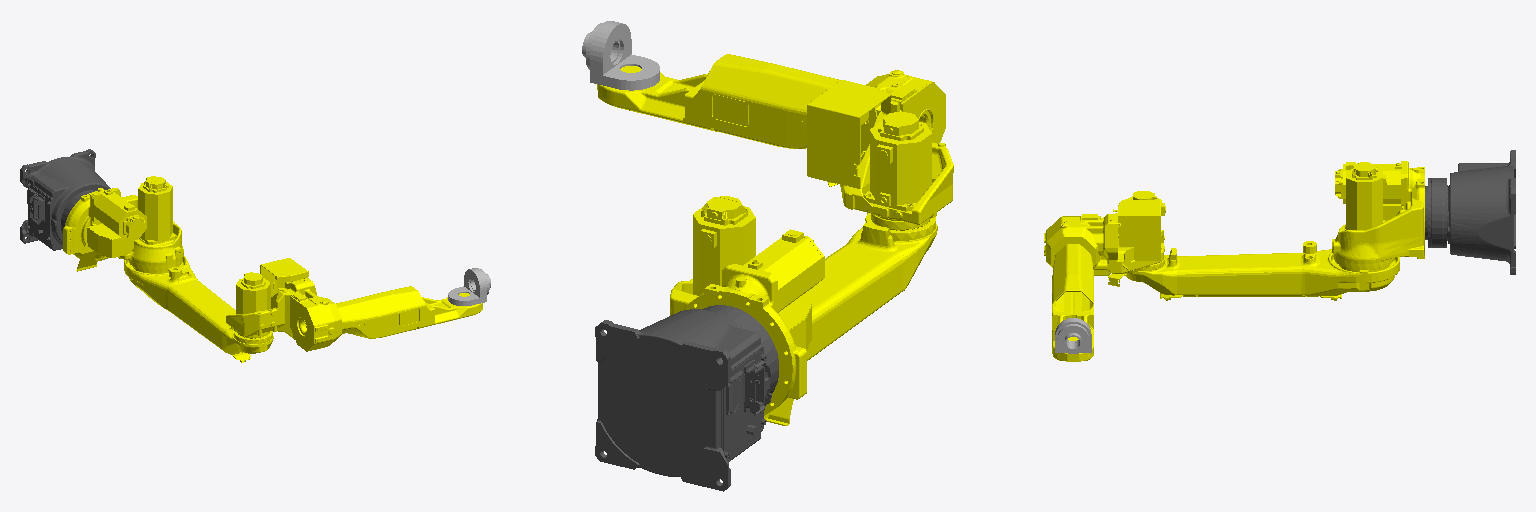
robot.urdf — my_robot_description:
<?xml version="1.0" encoding="utf-8"?>
<!-- This URDF was automatically created by SolidWorks to URDF Exporter! Originally created by [author] ([email redacted]) 
     Commit Version: 1.5.1-0-g916b5db  Build Version: 1.5.7152.31018
     For more information, please see http://wiki.ros.org/sw_urdf_exporter -->
<robot
  name="my_robot_description">
  <link
    name="base_link">
    <inertial>
      <origin
        xyz="-0.0126022026406354 0.000207464000061845 0.148312857980725"
        rpy="0 0 0" />
      <mass
        value="23.6977592058706" />
      <inertia
        ixx="0.330068238702755"
        ixy="0.000570545544486689"
        ixz="0.00315757561410969"
        iyy="0.337174579427767"
        iyz="0.000284200763409556"
        izz="0.307530830169948" />
    </inertial>
    <visual>
      <origin
        xyz="0 0 0"
        rpy="0 0 0" />
      <geometry>
        <mesh
          filename="package://my_robot_description/meshes/base_link.STL" />
      </geometry>
      <material
        name="">
        <color
          rgba="0.4 0.4 0.4 1" />
      </material>
    </visual>
    <collision>
      <origin
        xyz="0 0 0"
        rpy="0 0 0" />
      <geometry>
        <mesh
          filename="package://my_robot_description/meshes/base_link.STL" />
      </geometry>
    </collision>
  </link>
  <link
    name="link1">
    <inertial>
      <origin
        xyz="0.0703224076533174 0.0253451607183423 0.152457861802122"
        rpy="0 0 0" />
      <mass
        value="18.7854045572151" />
      <inertia
        ixx="0.302121131667017"
        ixy="0.0207433494826265"
        ixz="-0.0660476898045915"
        iyy="0.312832259841531"
        iyz="-0.0175317871993816"
        izz="0.316118404649268" />
    </inertial>
    <visual>
      <origin
        xyz="0 0 0"
        rpy="0 0 0" />
      <geometry>
        <mesh
          filename="package://my_robot_description/meshes/link1.STL" />
      </geometry>
      <material
        name="">
        <color
          rgba="1 1 0 1" />
      </material>
    </visual>
    <collision>
      <origin
        xyz="0 0 0"
        rpy="0 0 0" />
      <geometry>
        <mesh
          filename="package://my_robot_description/meshes/link1.STL" />
      </geometry>
    </collision>
  </link>
  <joint
    name="joint1"
    type="continuous">
    <origin
      xyz="-0.015 -0.33069 0"
      rpy="1.5708 0 0" />
    <parent
      link="base_link" />
    <child
      link="link1" />
    <axis
      xyz="0 0 1" />
    <limit
      lower="-3.14"
      upper="3.14"
      effort="0"
      velocity="0" />
  </joint>
  <link
    name="link2">
    <inertial>
      <origin
        xyz="-4.66571569340546E-05 -0.16471686280662 0.411840075538818"
        rpy="0 0 0" />
      <mass
        value="14.0790920818841" />
      <inertia
        ixx="0.886661245880346"
        ixy="7.14844926162096E-05"
        ixz="-8.42444710943717E-05"
        iyy="0.902755559262587"
        iyz="-0.0104284784365054"
        izz="0.0482232016050229" />
    </inertial>
    <visual>
      <origin
        xyz="0 0 0"
        rpy="0 0 0" />
      <geometry>
        <mesh
          filename="package://my_robot_description/meshes/link2.STL" />
      </geometry>
      <material
        name="">
        <color
          rgba="1 1 0 1" />
      </material>
    </visual>
    <collision>
      <origin
        xyz="0 0 0"
        rpy="0 0 0" />
      <geometry>
        <mesh
          filename="package://my_robot_description/meshes/link2.STL" />
      </geometry>
    </collision>
  </link>
  <joint
    name="joint2"
    type="continuous">
    <origin
      xyz="0.15 0 0.21745"
      rpy="0 0 0" />
    <parent
      link="link1" />
    <child
      link="link2" />
    <axis
      xyz="0 1 0" />
    <limit
      lower="-3.14"
      upper="3.14"
      effort="0"
      velocity="0" />
  </joint>
  <link
    name="link3">
    <inertial>
      <origin
        xyz="0.0943772050360831 0.00831993890865878 0.116811589774964"
        rpy="0 0 0" />
      <mass
        value="11.2852184423439" />
      <inertia
        ixx="0.185908674646294"
        ixy="-0.00260846713642638"
        ixz="-0.0635588295745308"
        iyy="0.223185444091577"
        iyz="0.00728563489713178"
        izz="0.112880183215889" />
    </inertial>
    <visual>
      <origin
        xyz="0 0 0"
        rpy="0 0 0" />
      <geometry>
        <mesh
          filename="package://my_robot_description/meshes/link3.STL" />
      </geometry>
      <material
        name="">
        <color
          rgba="1 1 0 1" />
      </material>
    </visual>
    <collision>
      <origin
        xyz="0 0 0"
        rpy="0 0 0" />
      <geometry>
        <mesh
          filename="package://my_robot_description/meshes/link3.STL" />
      </geometry>
    </collision>
  </link>
  <joint
    name="joint3"
    type="continuous">
    <origin
      xyz="0 0 0.79"
      rpy="0 0 0" />
    <parent
      link="link2" />
    <child
      link="link3" />
    <axis
      xyz="0 1 0" />
    <limit
      lower="-3.14"
      upper="3.14"
      effort="0"
      velocity="0" />
  </joint>
  <link
    name="link4">
    <inertial>
      <origin
        xyz="0.30205027669831 -0.056496339086546 -3.5828372662694E-05"
        rpy="0 0 0" />
      <mass
        value="7.79297137146979" />
      <inertia
        ixx="0.0249309277234898"
        ixy="0.0283945238509783"
        ixz="5.90362297864023E-05"
        iyy="0.259730426200264"
        iyz="-1.29723833309108E-05"
        izz="0.258900627940369" />
    </inertial>
    <visual>
      <origin
        xyz="0 0 0"
        rpy="0 0 0" />
      <geometry>
        <mesh
          filename="package://my_robot_description/meshes/link4.STL" />
      </geometry>
      <material
        name="">
        <color
          rgba="1 1 0 1" />
      </material>
    </visual>
    <collision>
      <origin
        xyz="0 0 0"
        rpy="0 0 0" />
      <geometry>
        <mesh
          filename="package://my_robot_description/meshes/link4.STL" />
      </geometry>
    </collision>
  </link>
  <joint
    name="joint4"
    type="continuous">
    <origin
      xyz="0.22809 0 0.25"
      rpy="0 0 0" />
    <parent
      link="link3" />
    <child
      link="link4" />
    <axis
      xyz="1 0 0" />
    <limit
      lower="-3.14"
      upper="3.14"
      effort="0"
      velocity="0" />
  </joint>
  <link
    name="link5">
    <inertial>
      <origin
        xyz="0.0286302873650151 -0.0178958882488403 -4.17443857259059E-14"
        rpy="0 0 0" />
      <mass
        value="0.598831893321024" />
      <inertia
        ixx="0.00160859630833623"
        ixy="-0.000377298390181619"
        ixz="4.62767450778639E-21"
        iyy="0.00167199859570175"
        iyz="-5.23748569666063E-20"
        izz="0.00152131174470428" />
    </inertial>
    <visual>
      <origin
        xyz="0 0 0"
        rpy="0 0 0" />
      <geometry>
        <mesh
          filename="package://my_robot_description/meshes/link5.STL" />
      </geometry>
      <material
        name="">
        <color
          rgba="0.752941176470588 0.752941176470588 0.752941176470588 1" />
      </material>
    </visual>
    <collision>
      <origin
        xyz="0 0 0"
        rpy="0 0 0" />
      <geometry>
        <mesh
          filename="package://my_robot_description/meshes/link5.STL" />
      </geometry>
    </collision>
  </link>
  <joint
    name="joint5"
    type="continuous">
    <origin
      xyz="0.61291 0 0"
      rpy="0 0 0" />
    <parent
      link="link4" />
    <child
      link="link5" />
    <axis
      xyz="0 1 0" />
  </joint>
  <link
    name="link6">
    <inertial>
      <origin
        xyz="0.032 -1.04825870206326E-13 2.22044604925031E-16"
        rpy="0 0 0" />
      <mass
        value="0.17051308286624" />
      <inertia
        ixx="0.000277916848768315"
        ixy="-8.03560591382423E-37"
        ixz="8.71654937058881E-37"
        iyy="0.000160289486643655"
        iyz="-3.17102649563598E-37"
        izz="0.000160289486643655" />
    </inertial>
    <visual>
      <origin
        xyz="0 0 0"
        rpy="0 0 0" />
      <geometry>
        <mesh
          filename="package://my_robot_description/meshes/link6.STL" />
      </geometry>
      <material
        name="">
        <color
          rgba="0.752941176470588 0.752941176470588 0.752941176470588 1" />
      </material>
    </visual>
    <collision>
      <origin
        xyz="0 0 0"
        rpy="0 0 0" />
      <geometry>
        <mesh
          filename="package://my_robot_description/meshes/link6.STL" />
      </geometry>
    </collision>
  </link>
  <joint
    name="joint6"
    type="continuous">
    <origin
      xyz="0.0455 0.0005 0"
      rpy="0 0 0" />
    <parent
      link="link5" />
    <child
      link="link6" />
    <axis
      xyz="1 0 0" />
  </joint>
</robot>

--- What the picture shows (computed from the rendered views, not written in the file) ---
Views: 3 orthographic renders of the robot side by side, from view 1: azimuth 30°, elevation 25°; view 2: azimuth 150°, elevation 25°; view 3: azimuth 270°, elevation 25°.
Robot: my_robot_description — 7 links, 6 joints (6 continuous); root link base_link; default pose: every joint at zero.
Links seen in each view (by area): view 1: link1, link3, link2, base_link, link4, link5; view 2: base_link, link3, link1, link4, link2, link5; view 3: link2, link1, base_link, link3, link4, link6.
Boxes of the visible links, <box> form: link1: <box>63,176,183,273</box>; link3: <box>226,258,341,351</box>; link2: <box>124,256,273,362</box>; base_link: <box>20,149,110,250</box>; link4: <box>336,286,482,338</box>; link5: <box>448,268,486,305</box>; base_link: <box>595,305,778,491</box>; link3: <box>807,70,953,224</box>; link1: <box>670,196,824,425</box>; link4: <box>597,54,839,148</box>; link2: <box>796,213,937,360</box>; link5: <box>590,21,659,90</box>; link2: <box>1125,241,1399,300</box>; link1: <box>1332,161,1424,271</box>; base_link: <box>1425,150,1515,274</box>; link3: <box>1044,191,1165,286</box>; link4: <box>1052,244,1093,361</box>; link6: <box>1057,324,1088,353</box>.
Bounding box of the posed robot: 1.29 × 1.68 × 0.528 m (x, y, z).
7 mesh visuals loaded from 7 distinct referenced files (7 binary STL).